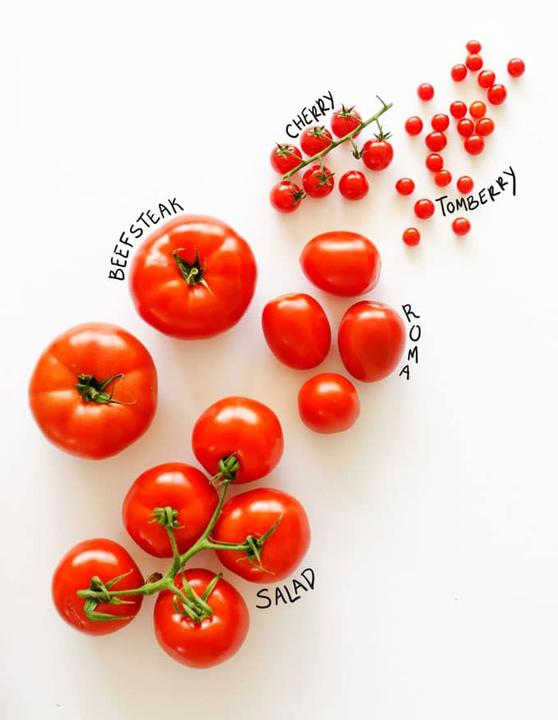tomato: (33, 325, 158, 461), (127, 217, 255, 334), (152, 570, 250, 668), (214, 492, 311, 579), (53, 540, 145, 629), (194, 398, 283, 479), (338, 301, 406, 387)
